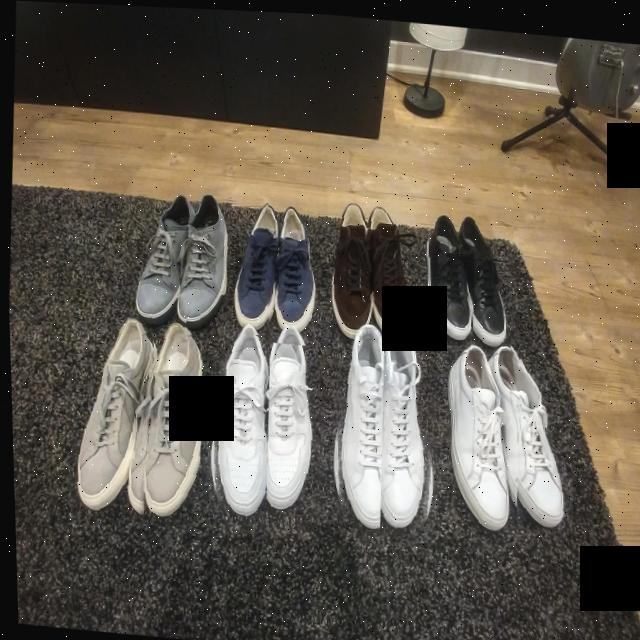shoe: (64, 304, 158, 536), (477, 335, 579, 537), (120, 306, 207, 528), (434, 337, 523, 539), (252, 316, 332, 526), (372, 318, 446, 539), (198, 317, 274, 526), (321, 311, 393, 531), (164, 175, 234, 334), (315, 179, 380, 348), (357, 184, 423, 344), (124, 180, 192, 326), (448, 205, 516, 349), (259, 193, 321, 344), (416, 201, 478, 347), (224, 191, 281, 336)
